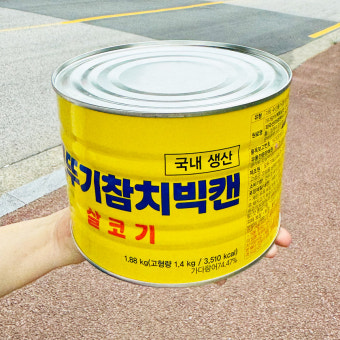paper: (55, 38, 288, 284)
